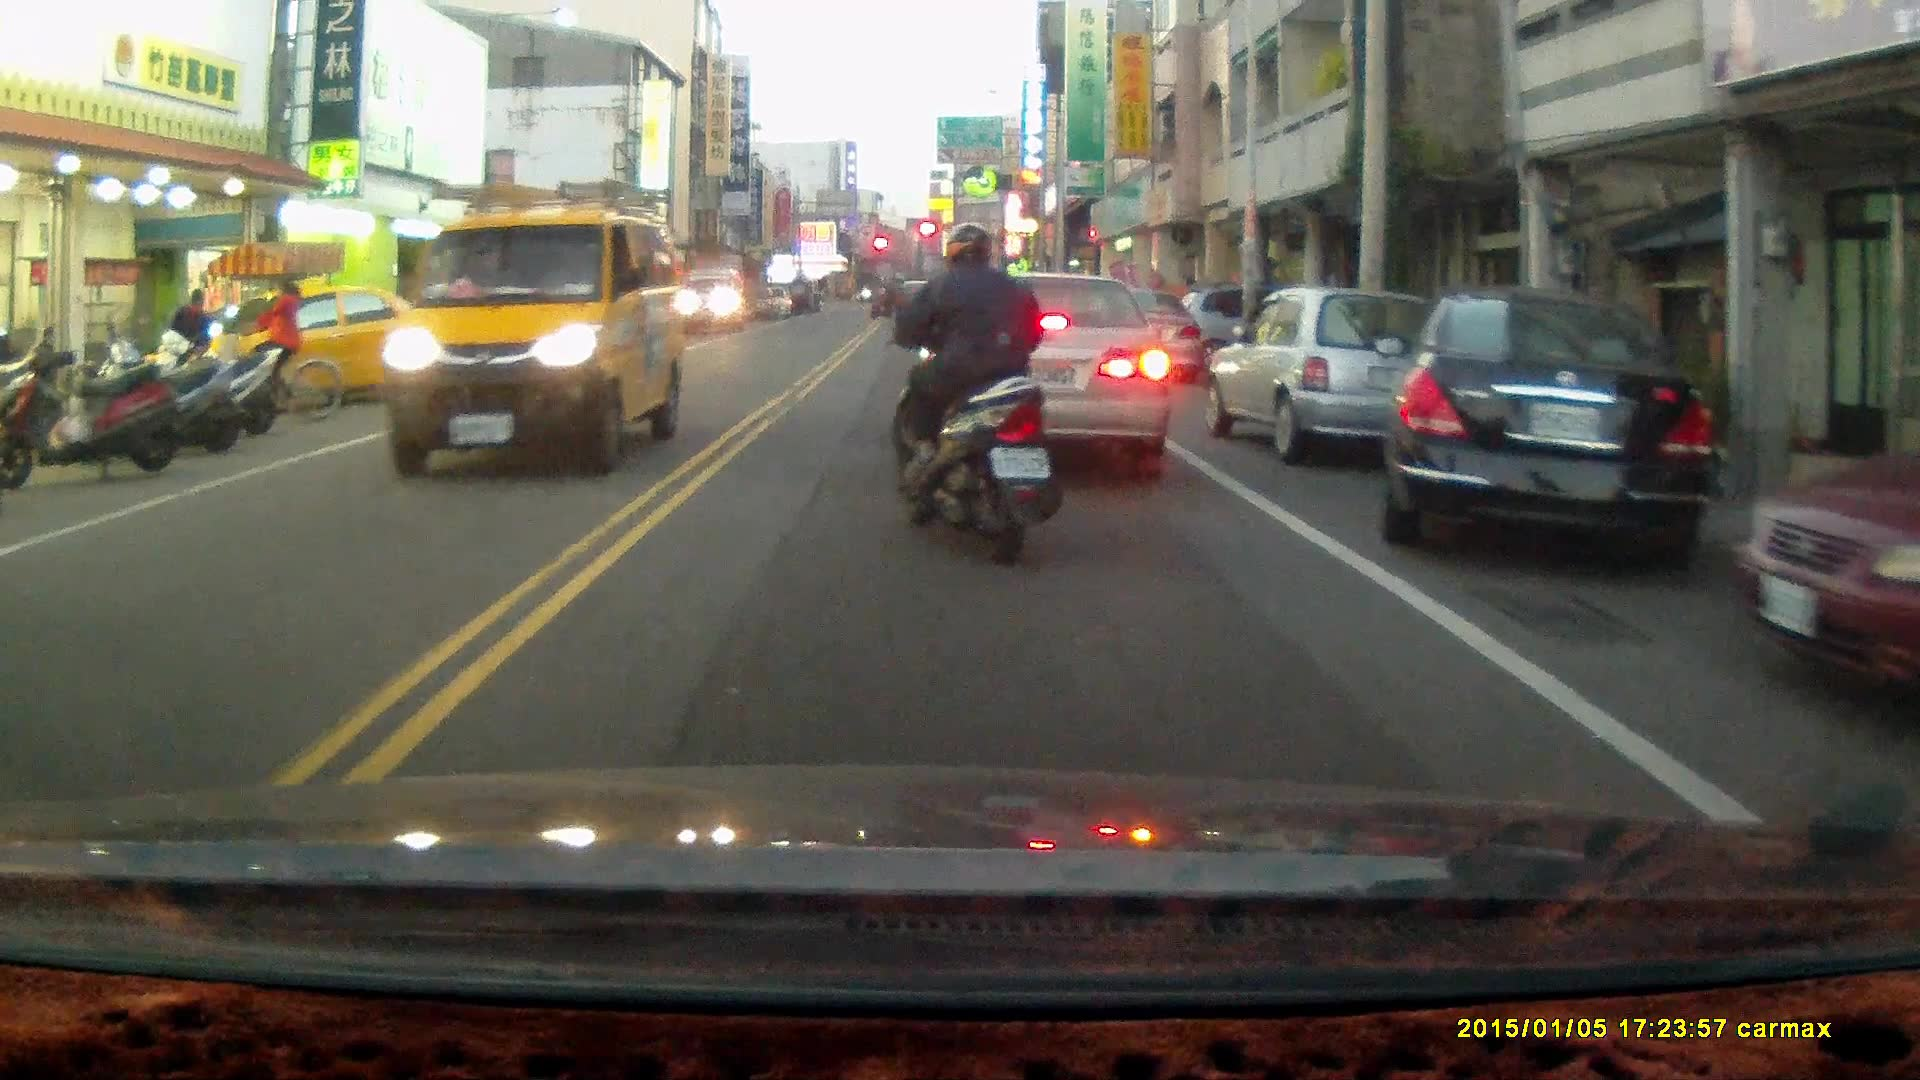pedestrian: (165, 285, 212, 390)
rider: (880, 219, 1066, 568), (223, 273, 339, 428)
vehicle: (1371, 291, 1721, 578), (384, 182, 691, 484), (1729, 387, 1920, 727), (915, 274, 1178, 484), (1207, 287, 1447, 467), (207, 288, 468, 409), (685, 268, 750, 338)
